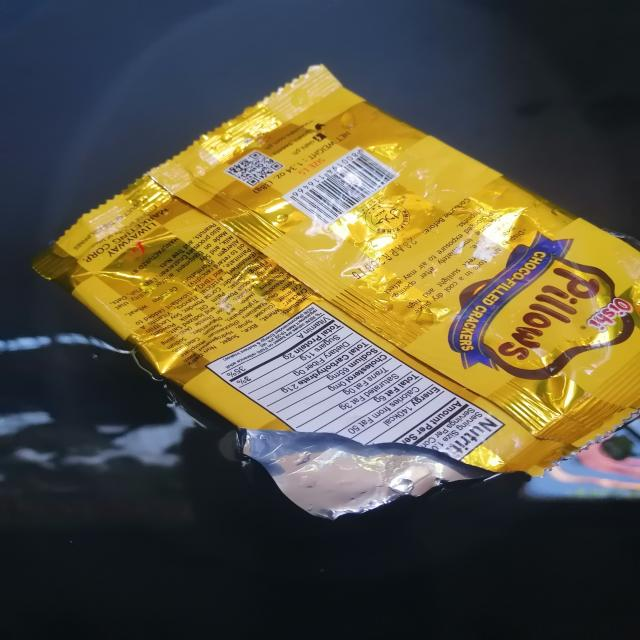Plastic Wrapper: (17, 51, 640, 533)
